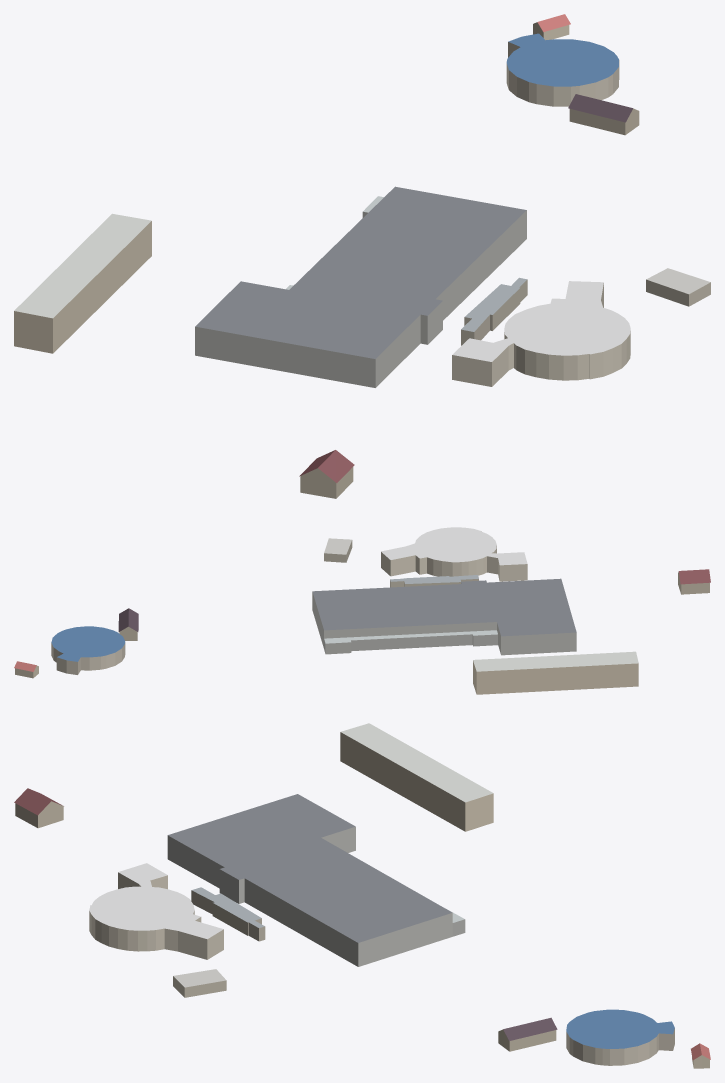
3 views of the same model, one above another, from view 1: azimuth 30°, elevation 25°; view 2: azimuth 150°, elevation 25°; view 3: azimuth 270°, elevation 25° (orthographic). The views are drawn at different scales.
Visible parts, largest first — view 1: tuile; view 2: tuile; view 3: tuile.
Boxes of the visible parts, left/top/right/bottom form: tuile: left=14, top=14, right=710, bottom=498; tuile: left=14, top=527, right=710, bottom=694; tuile: left=14, top=723, right=710, bottom=1068.
Size of the model in its own units: 244 by 18.18 by 236.
